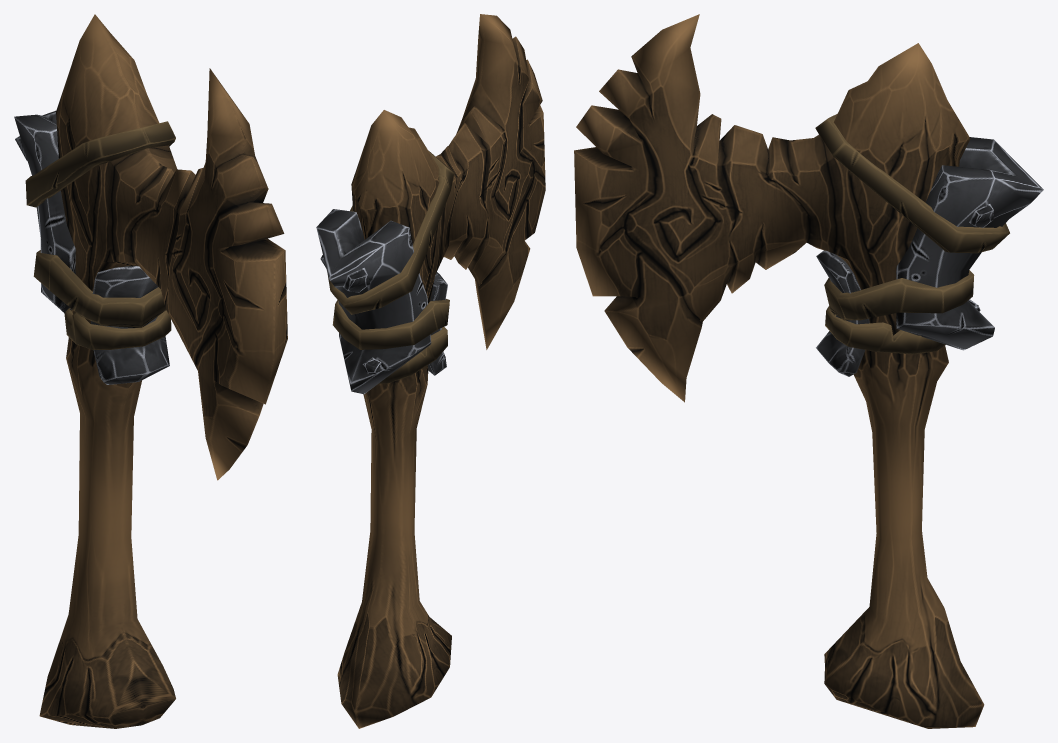
File: axeModel.fbx
The picture shows the model from 3 angles, left to right: view 1: azimuth 30°, elevation 25°; view 2: azimuth 150°, elevation 25°; view 3: azimuth 270°, elevation 25°; orthographic projection. The views are drawn at different scales.
Parts seen in each view (by area): view 1: kcs_prop_axe_practice_mesh.2; view 2: kcs_prop_axe_practice_mesh.2; view 3: kcs_prop_axe_practice_mesh.2.
Part boxes in pixels (x1,y1,x2,y2): kcs_prop_axe_practice_mesh.2: (14,14,287,728); kcs_prop_axe_practice_mesh.2: (316,14,545,728); kcs_prop_axe_practice_mesh.2: (574,14,1043,728).
Size of the model in its own units: 0.1254 by 0.8009 by 0.4783.
1 material, 1 textured.
